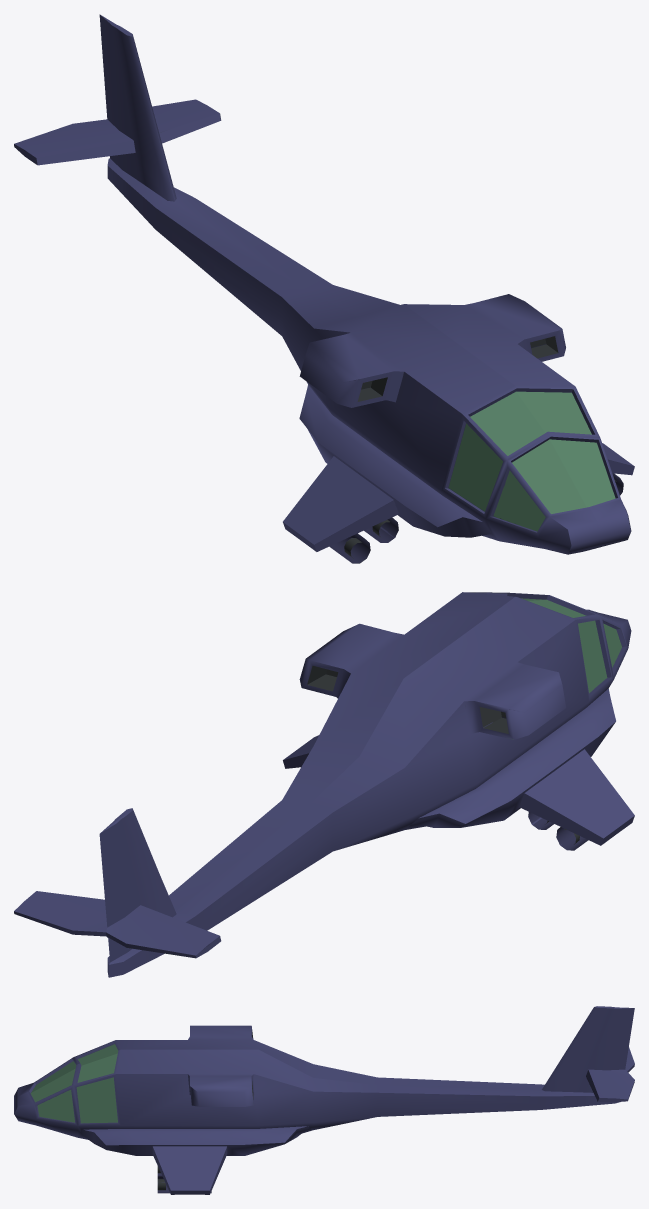
File: helicopteroCuerpo.obj
3 views of the same model, one above another, from view 1: azimuth 30°, elevation 25°; view 2: azimuth 150°, elevation 25°; view 3: azimuth 270°, elevation 25° (orthographic). The views are drawn at different scales.
Visible parts, largest first — view 1: cuerpo; view 2: cuerpo; view 3: cuerpo.
Part boxes in pixels (x1,y1,x2,y2): cuerpo: [14, 14, 634, 563]; cuerpo: [14, 592, 634, 977]; cuerpo: [14, 1006, 634, 1194].
Bounding box in the file's own units: 0.2573 × 0.1825 × 0.6973.
1 material, 1 textured.
